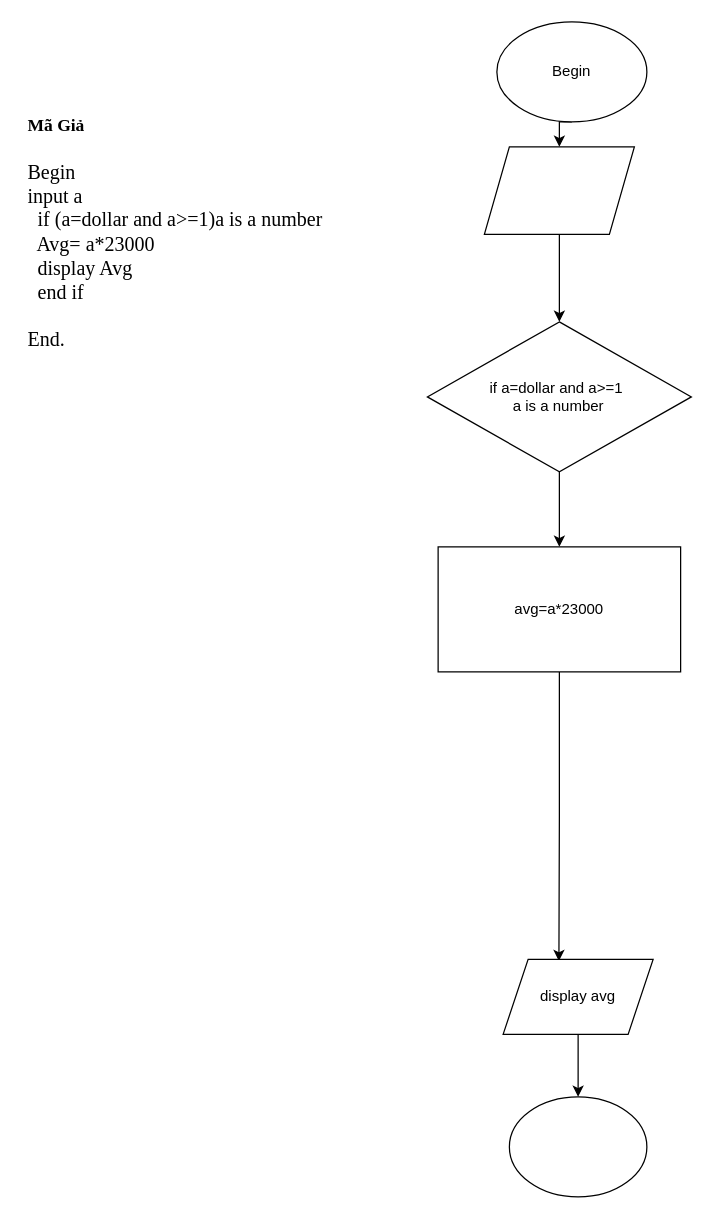
Image size: 714x1219. Some labels were removed from this diagram. The shapes that lost their labels are listed below. From the top down, each one's centre as x and y in pixels, then its label:
At pixel 558 190: "input dollar".
At pixel 577 1146: "END".
